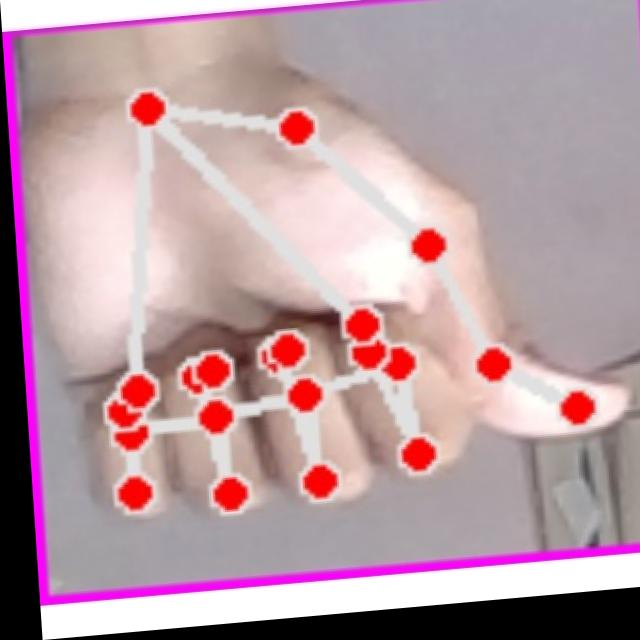A: (22, 13, 640, 577)
